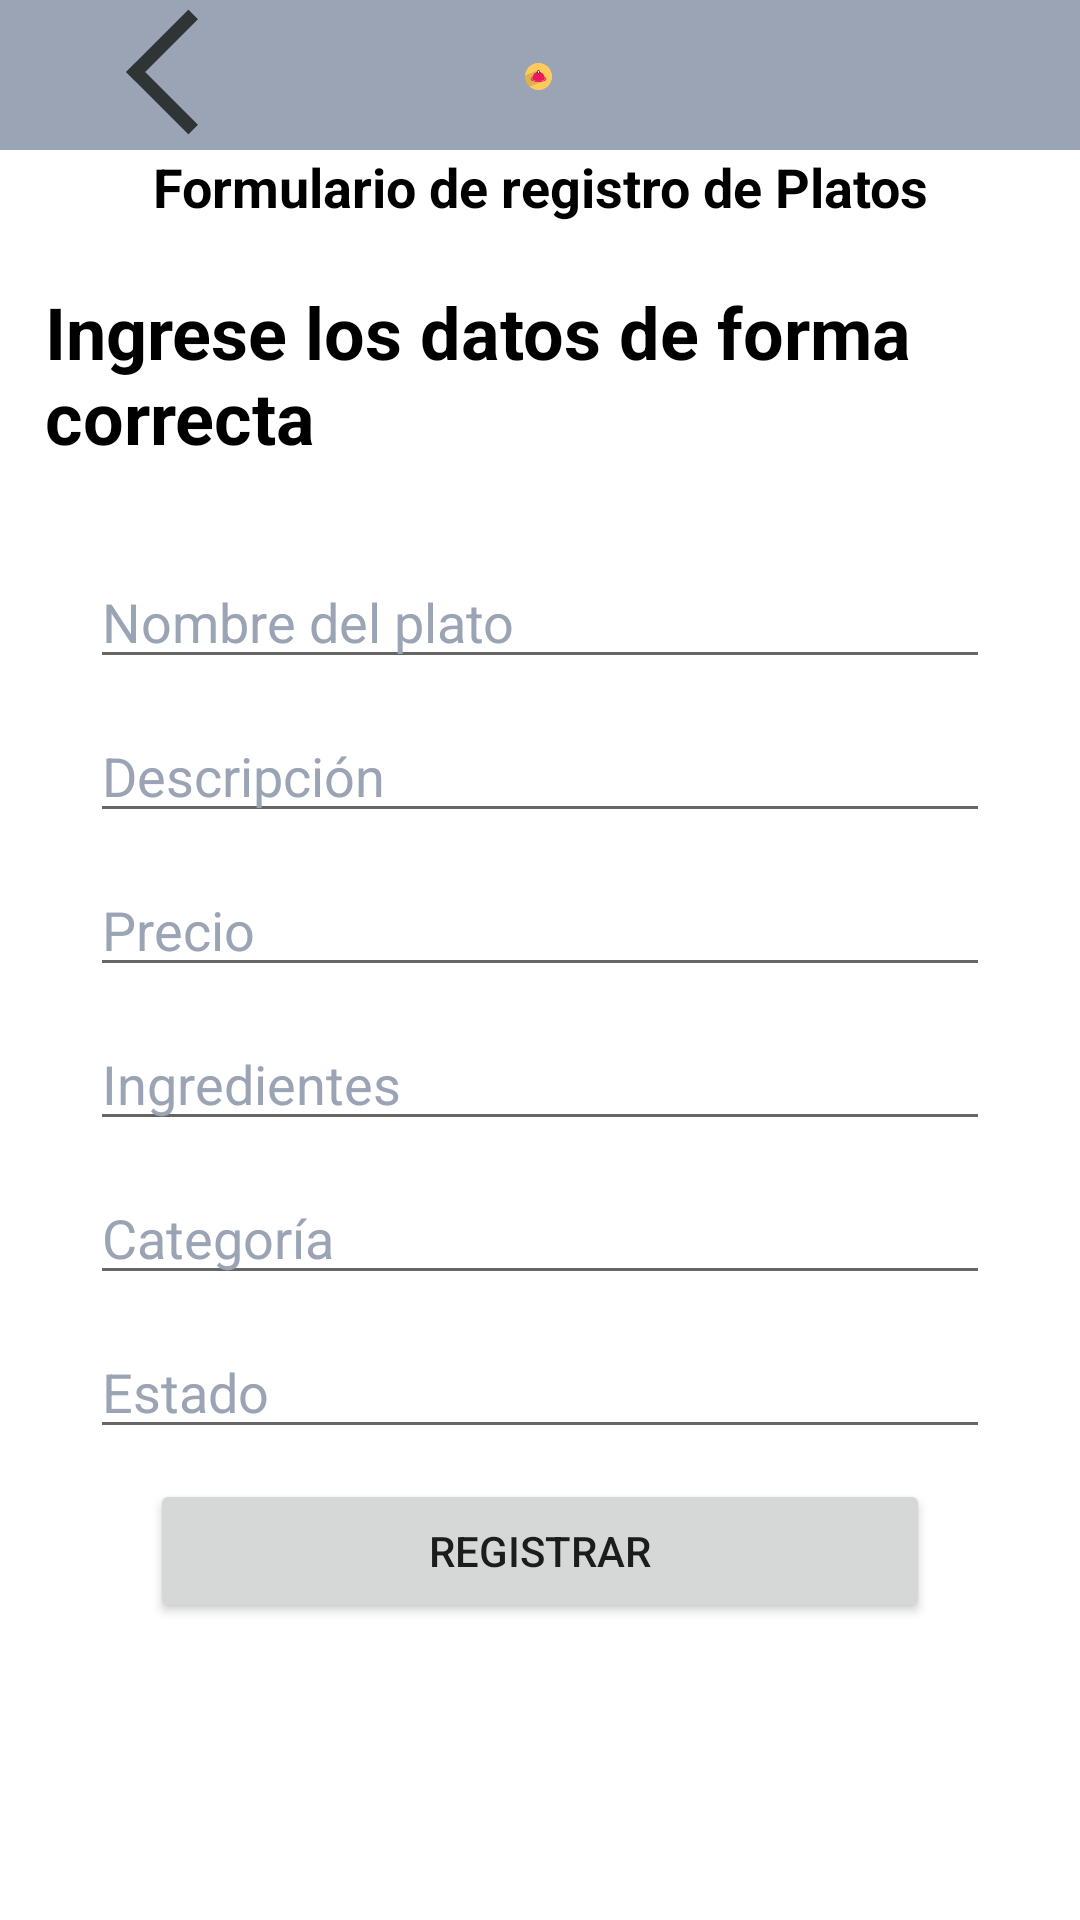

Locate icon controls on the screen. Image size 1080w x 1920h, boxes as [left=x1, top=y1, right=x2, bottom=y2].
fllecha: [left=126, top=10, right=198, bottom=134]
